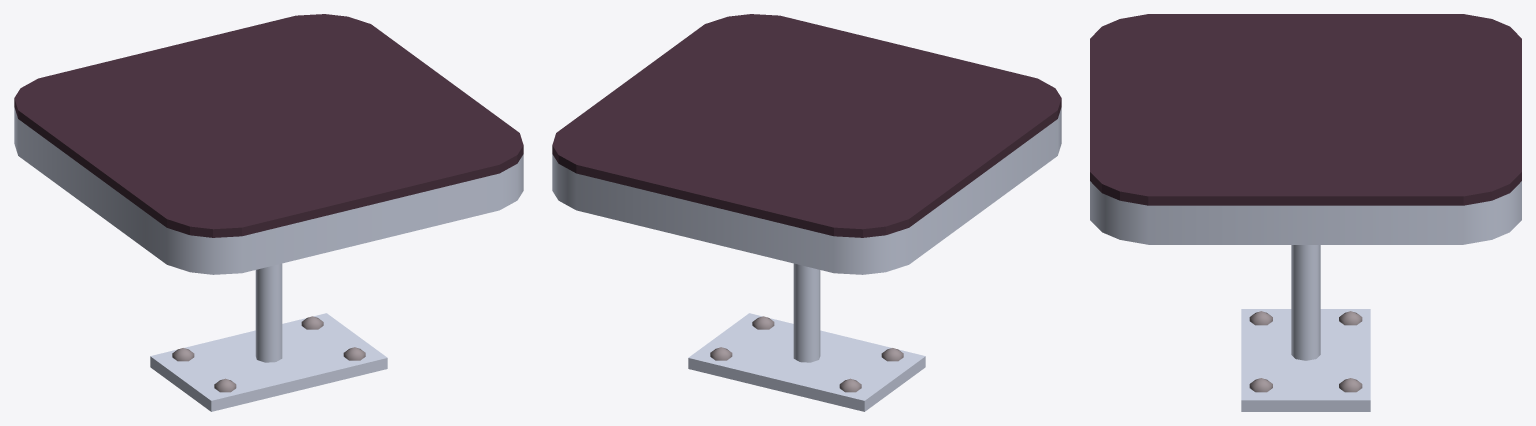
The model's file is SM_table_01.fbx.
3 views of the same model, side by side, from view 1: azimuth 30°, elevation 25°; view 2: azimuth 150°, elevation 25°; view 3: azimuth 270°, elevation 25° (orthographic). The views are drawn at different scales.
Visible parts, largest first — view 1: table_01; view 2: table_01; view 3: table_01.
Boxes of the visible parts, left/top/right/bottom form: table_01: left=14, top=14, right=523, bottom=411; table_01: left=552, top=14, right=1061, bottom=411; table_01: left=1090, top=14, right=1521, bottom=411.
Size of the model in its own units: 117 by 78.3 by 117.
